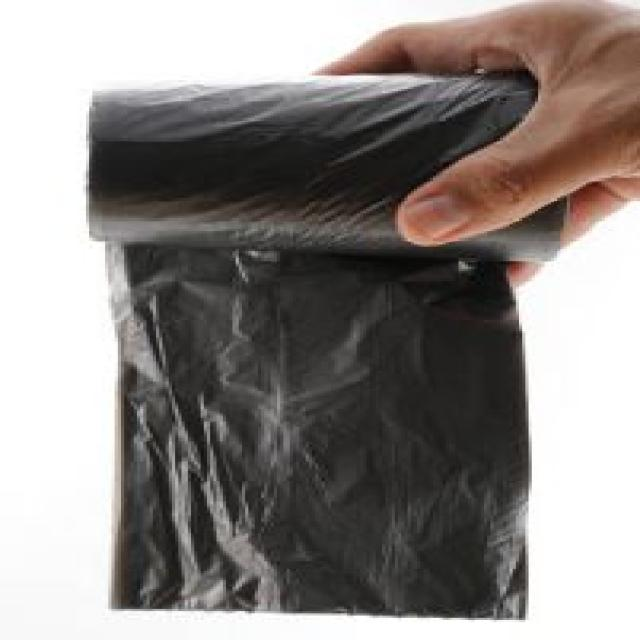electronic: (83, 69, 567, 618)
